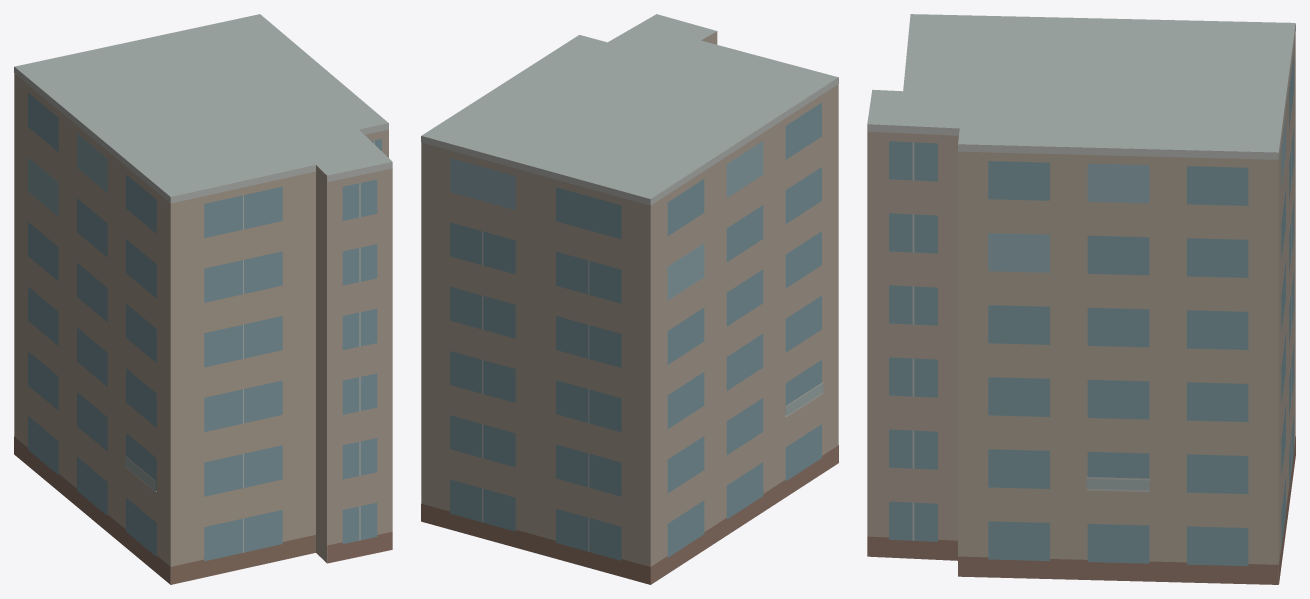
File: survey-upis-32893635.glb
The picture shows the model from 3 angles, left to right: view 1: azimuth 30°, elevation 25°; view 2: azimuth 150°, elevation 25°; view 3: azimuth 270°, elevation 25°; orthographic projection. The views are drawn at different scales.
Visible parts, largest first — view 1: survey-upis-32893635.tmp; view 2: survey-upis-32893635.tmp; view 3: survey-upis-32893635.tmp.
Part boxes in pixels (box(x1,y1,x2,y2)): survey-upis-32893635.tmp: box(14, 14, 392, 584); survey-upis-32893635.tmp: box(421, 14, 838, 584); survey-upis-32893635.tmp: box(867, 14, 1295, 584).
Bounding box in the file's own units: 9.9 × 14.4 × 12.95.
